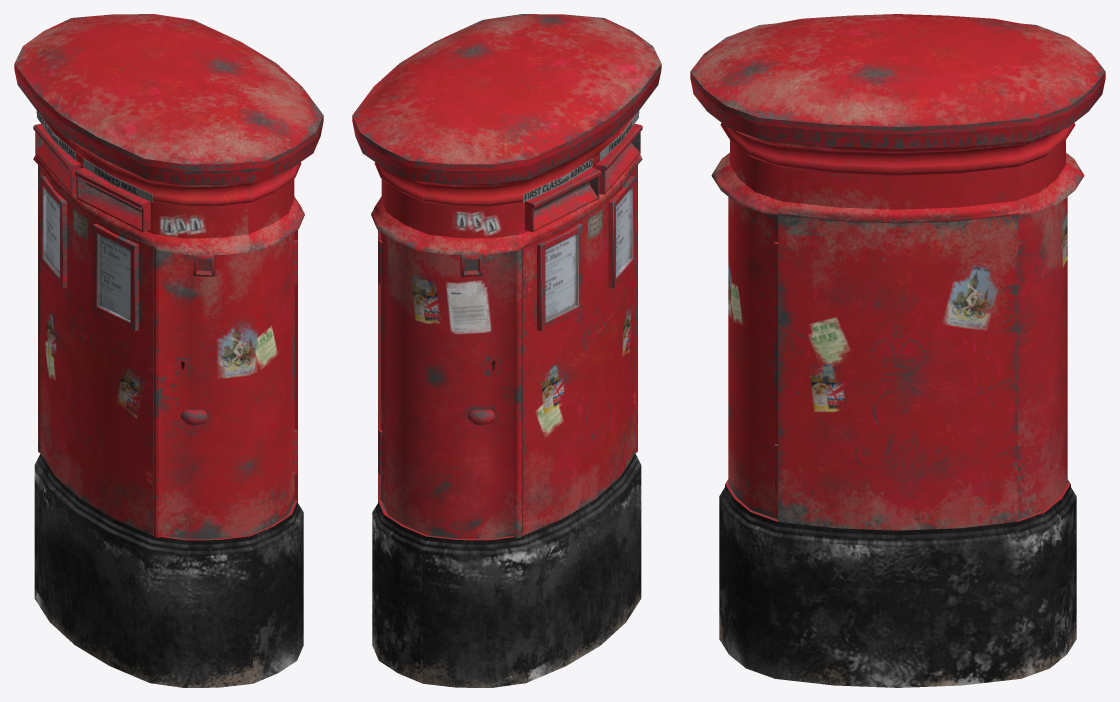
Rendered from post_box.glb.
The picture shows the model from 3 angles, left to right: view 1: azimuth 30°, elevation 25°; view 2: azimuth 150°, elevation 25°; view 3: azimuth 270°, elevation 25°; orthographic projection. The views are drawn at different scales.
Visible parts, largest first — view 1: Object_3; view 2: Object_3; view 3: Object_3.
Part boxes in pixels (<box>): Object_3: <box>14,14,323,687</box>; Object_3: <box>352,14,661,687</box>; Object_3: <box>690,14,1105,687</box>.
Size of the model in its own units: 0.8744 by 2.16 by 1.38.
1 material, 1 textured.
